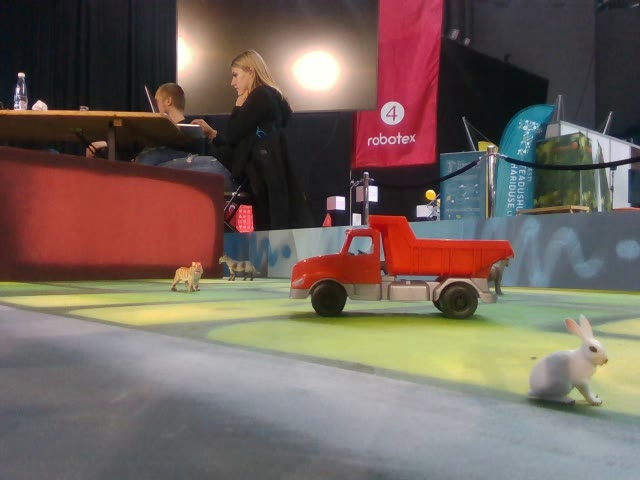toy: (527, 315, 608, 408), (217, 253, 262, 281), (171, 261, 203, 291)
